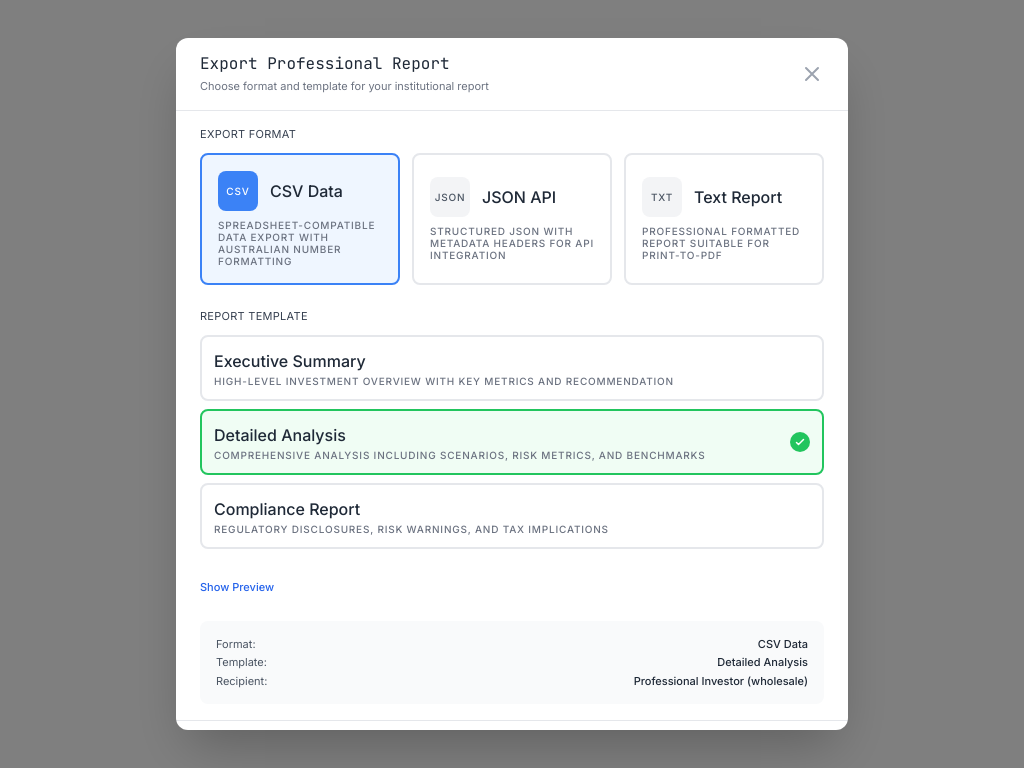
Scenario: ExportModal Preview › clicking Show Preview reveals preview pane
This screenshot has width=1024, height=768.
Click the button with test id "preview-toggle" at (237, 587), box [200, 580, 274, 594]
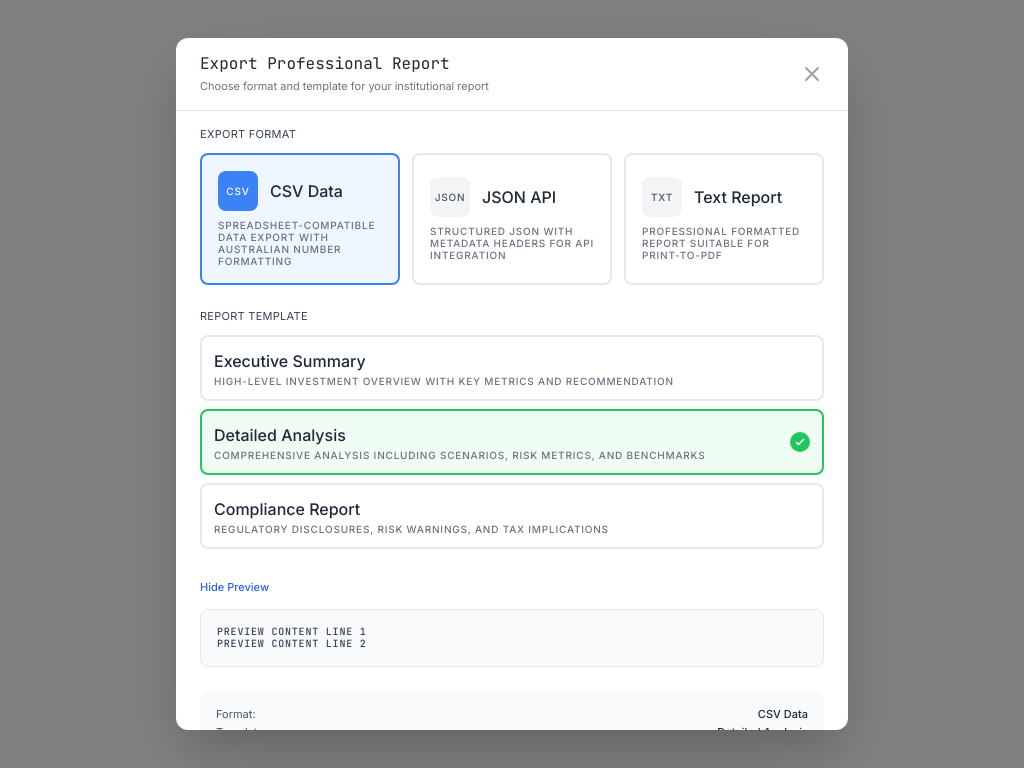
Expected: the element with test id "preview-pane" is shown, [200, 609, 824, 667]
